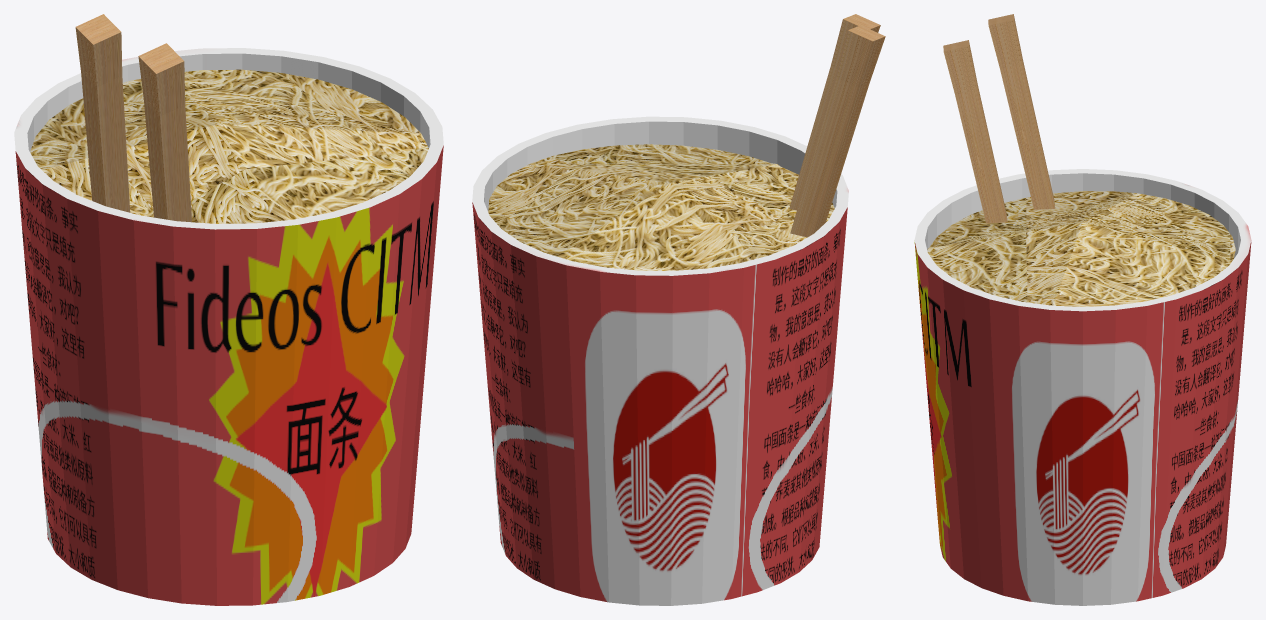
The model's file is fideos.fbx.
3 views of the same model, side by side, from view 1: azimuth 30°, elevation 25°; view 2: azimuth 150°, elevation 25°; view 3: azimuth 270°, elevation 25° (orthographic). The views are drawn at different scales.
Parts seen in each view (by area): view 1: Cylinder, Cylinder.001, Cube, Cube.001; view 2: Cylinder, Cylinder.001, Cube, Cube.001; view 3: Cylinder, Cylinder.001, Cube, Cube.001.
Boxes of the visible parts, x1,y1,x2,y2 form: Cylinder: (14,48,443,605); Cylinder.001: (30,69,428,223); Cube: (75,14,130,212); Cube.001: (138,43,191,222); Cylinder: (472,116,848,605); Cylinder.001: (488,144,834,270); Cube: (790,25,885,237); Cube.001: (789,14,880,210); Cylinder: (914,169,1251,605); Cylinder.001: (927,191,1235,306); Cube: (988,14,1055,209); Cube.001: (943,40,1007,223).
Size of the model in its own units: 206 by 302 by 200.
4 materials, 4 textured.
